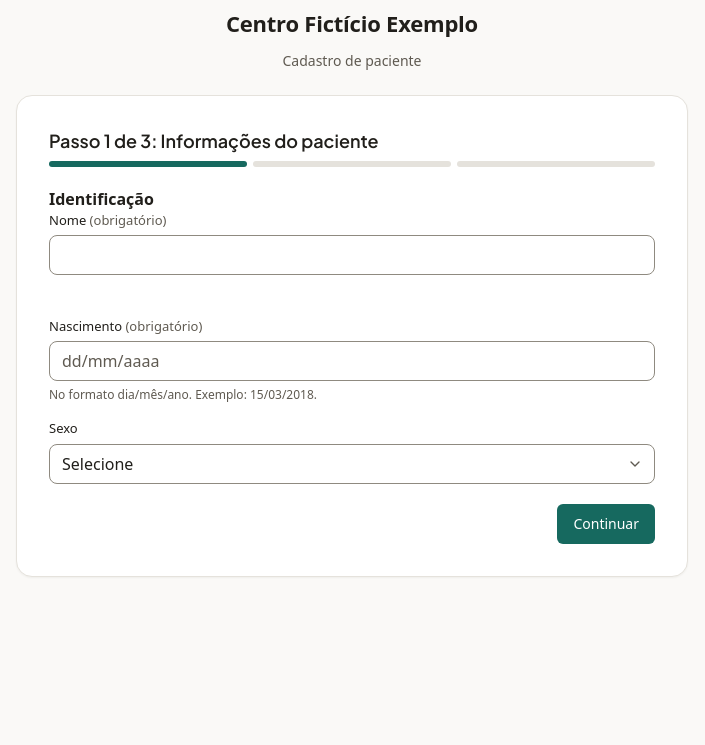
Scenario: Cadastro público — a página que a família abre › deve exigir responsável SÓ quando a data indica menor de idade
This screenshot has width=705, height=745.
ACT — maior de idade
Type "Adulto Fictício" into the field labelled "Nome (obrigatório)" at [352, 255], box [49,235,655,275]
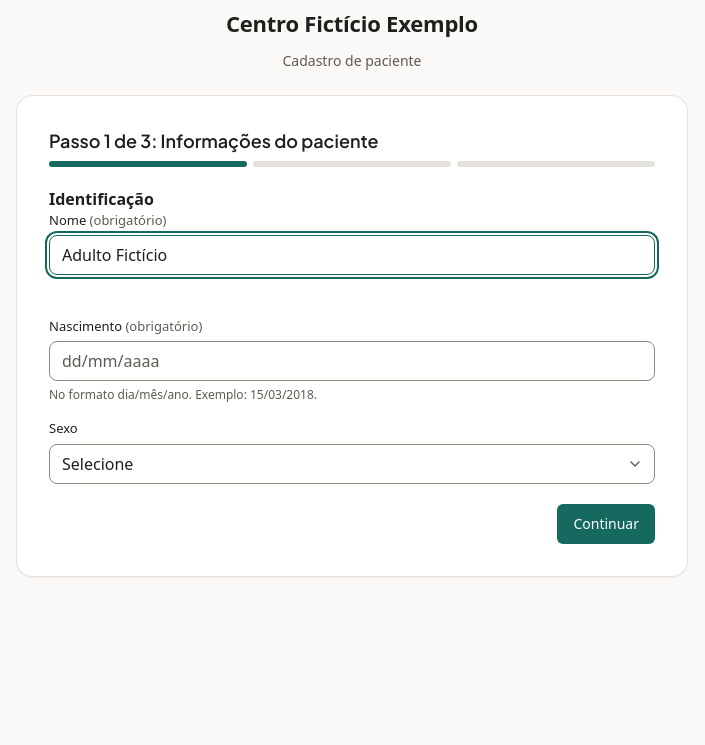
Type "15031980" into the field labelled "Nascimento (obrigatório)" at [352, 361], box [49,341,655,381]
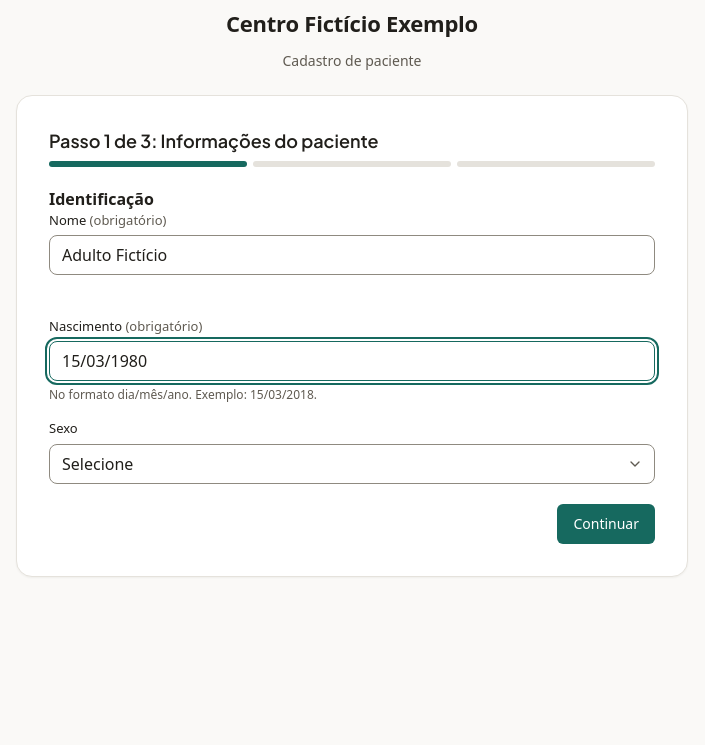
Click the button "Continuar" at [606, 524], box [557,504,655,544]
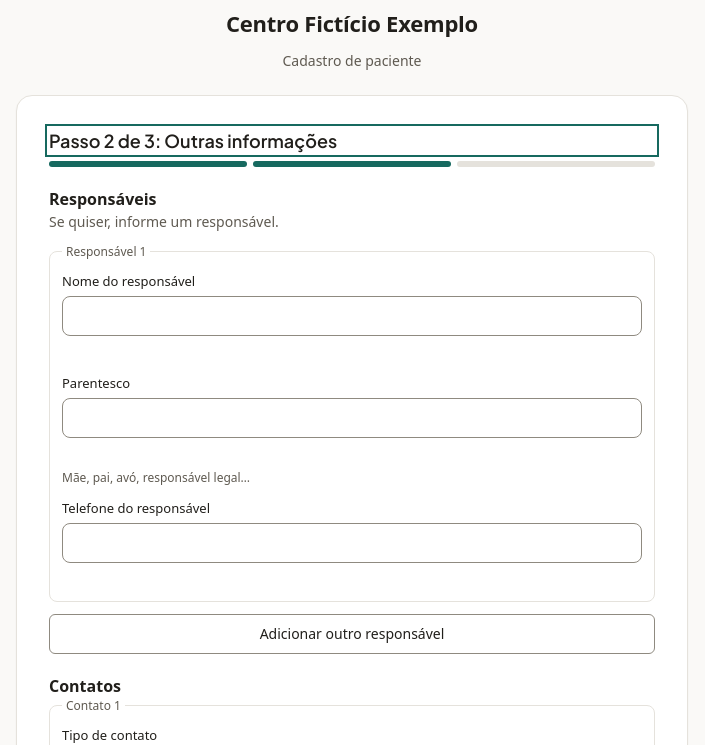
Now the text "Se quiser, informe um responsável." is shown, box [49,212,279,231]
